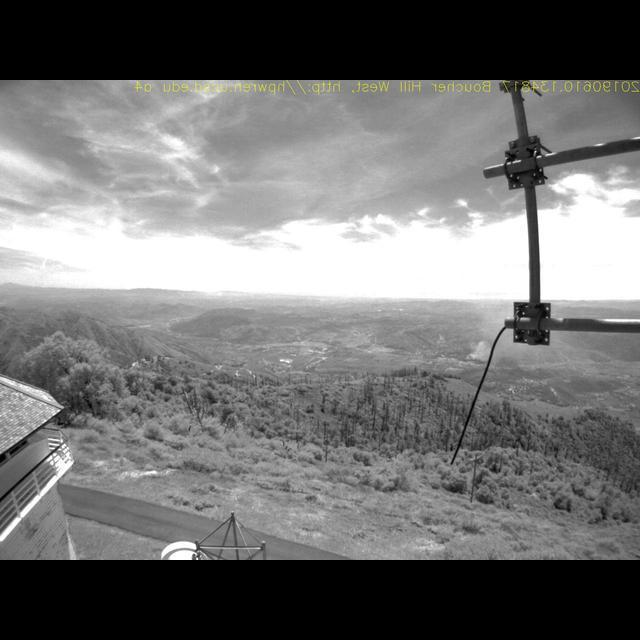Smoke: (470, 302, 510, 365)
